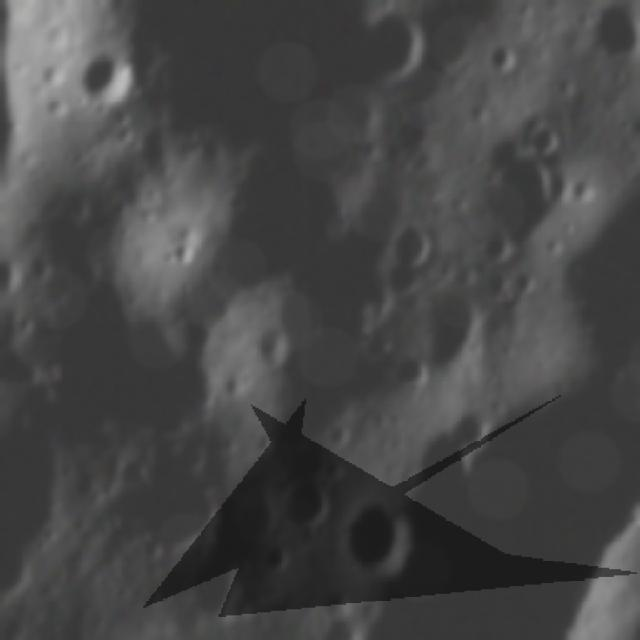crater: (121, 446, 228, 577), (341, 485, 419, 584), (354, 0, 432, 89), (425, 278, 497, 372), (78, 35, 142, 110), (281, 459, 336, 539), (441, 397, 502, 458), (592, 0, 640, 69), (474, 214, 526, 277), (386, 215, 436, 271), (387, 344, 436, 401), (252, 318, 299, 374), (514, 113, 564, 158), (484, 28, 519, 82), (503, 258, 540, 305), (552, 0, 610, 9)
